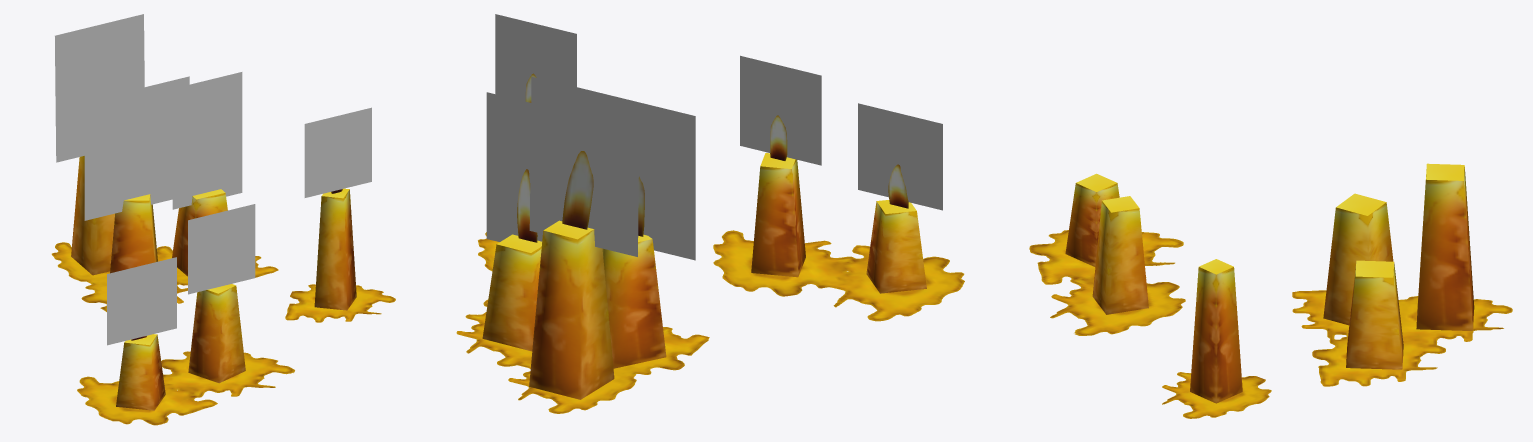
The model's file is SM_Town012_Lzy2.FBX.
3 views of the same model, side by side, from view 1: azimuth 30°, elevation 25°; view 2: azimuth 150°, elevation 25°; view 3: azimuth 270°, elevation 25° (orthographic). The views are drawn at different scales.
Visible parts, largest first — view 1: SM_Town012_Lz2, Object06, Object08, Object07, SM_Town012_Lzy2; view 2: SM_Town012_Lz2, Object08, SM_Town012_Lzy2, Object06, Object07; view 3: SM_Town012_Lz2, SM_Town012_Lzy2.
Boxes of the visible parts, x1,y1,x2,y2 form: SM_Town012_Lz2: [71, 156, 356, 410]; Object06: [84, 76, 371, 220]; Object08: [55, 14, 255, 294]; Object07: [107, 72, 242, 345]; SM_Town012_Lzy2: [51, 189, 395, 425]; SM_Town012_Lz2: [482, 153, 926, 399]; Object08: [529, 55, 821, 256]; SM_Town012_Lzy2: [456, 73, 964, 413]; Object06: [495, 14, 695, 260]; Object07: [486, 92, 942, 241]; SM_Town012_Lz2: [1065, 163, 1474, 403]; SM_Town012_Lzy2: [1029, 230, 1512, 418].
Size of the model in its own units: 99.62 by 58.68 by 95.26.
